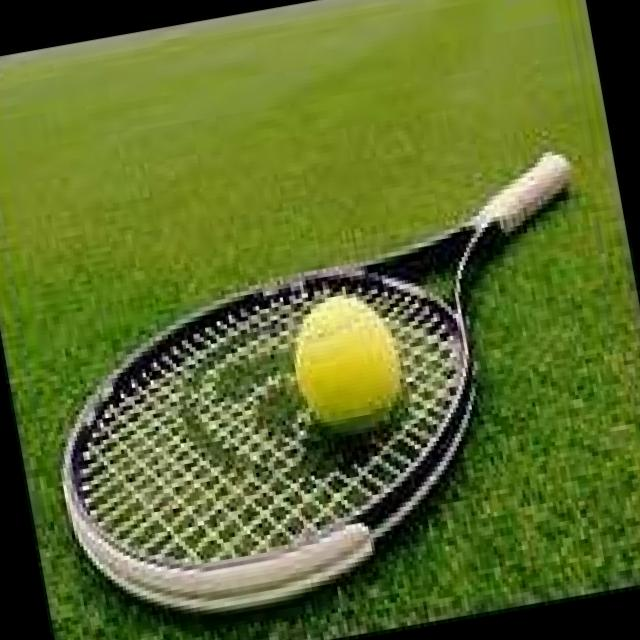Tennis Ball: (289, 294, 405, 437)
Tennis racket: (60, 152, 576, 619)
